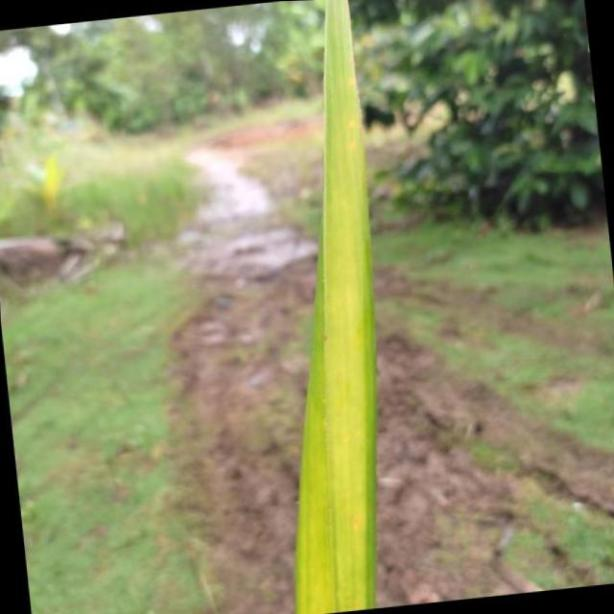nitrogen: (291, 0, 379, 614)
